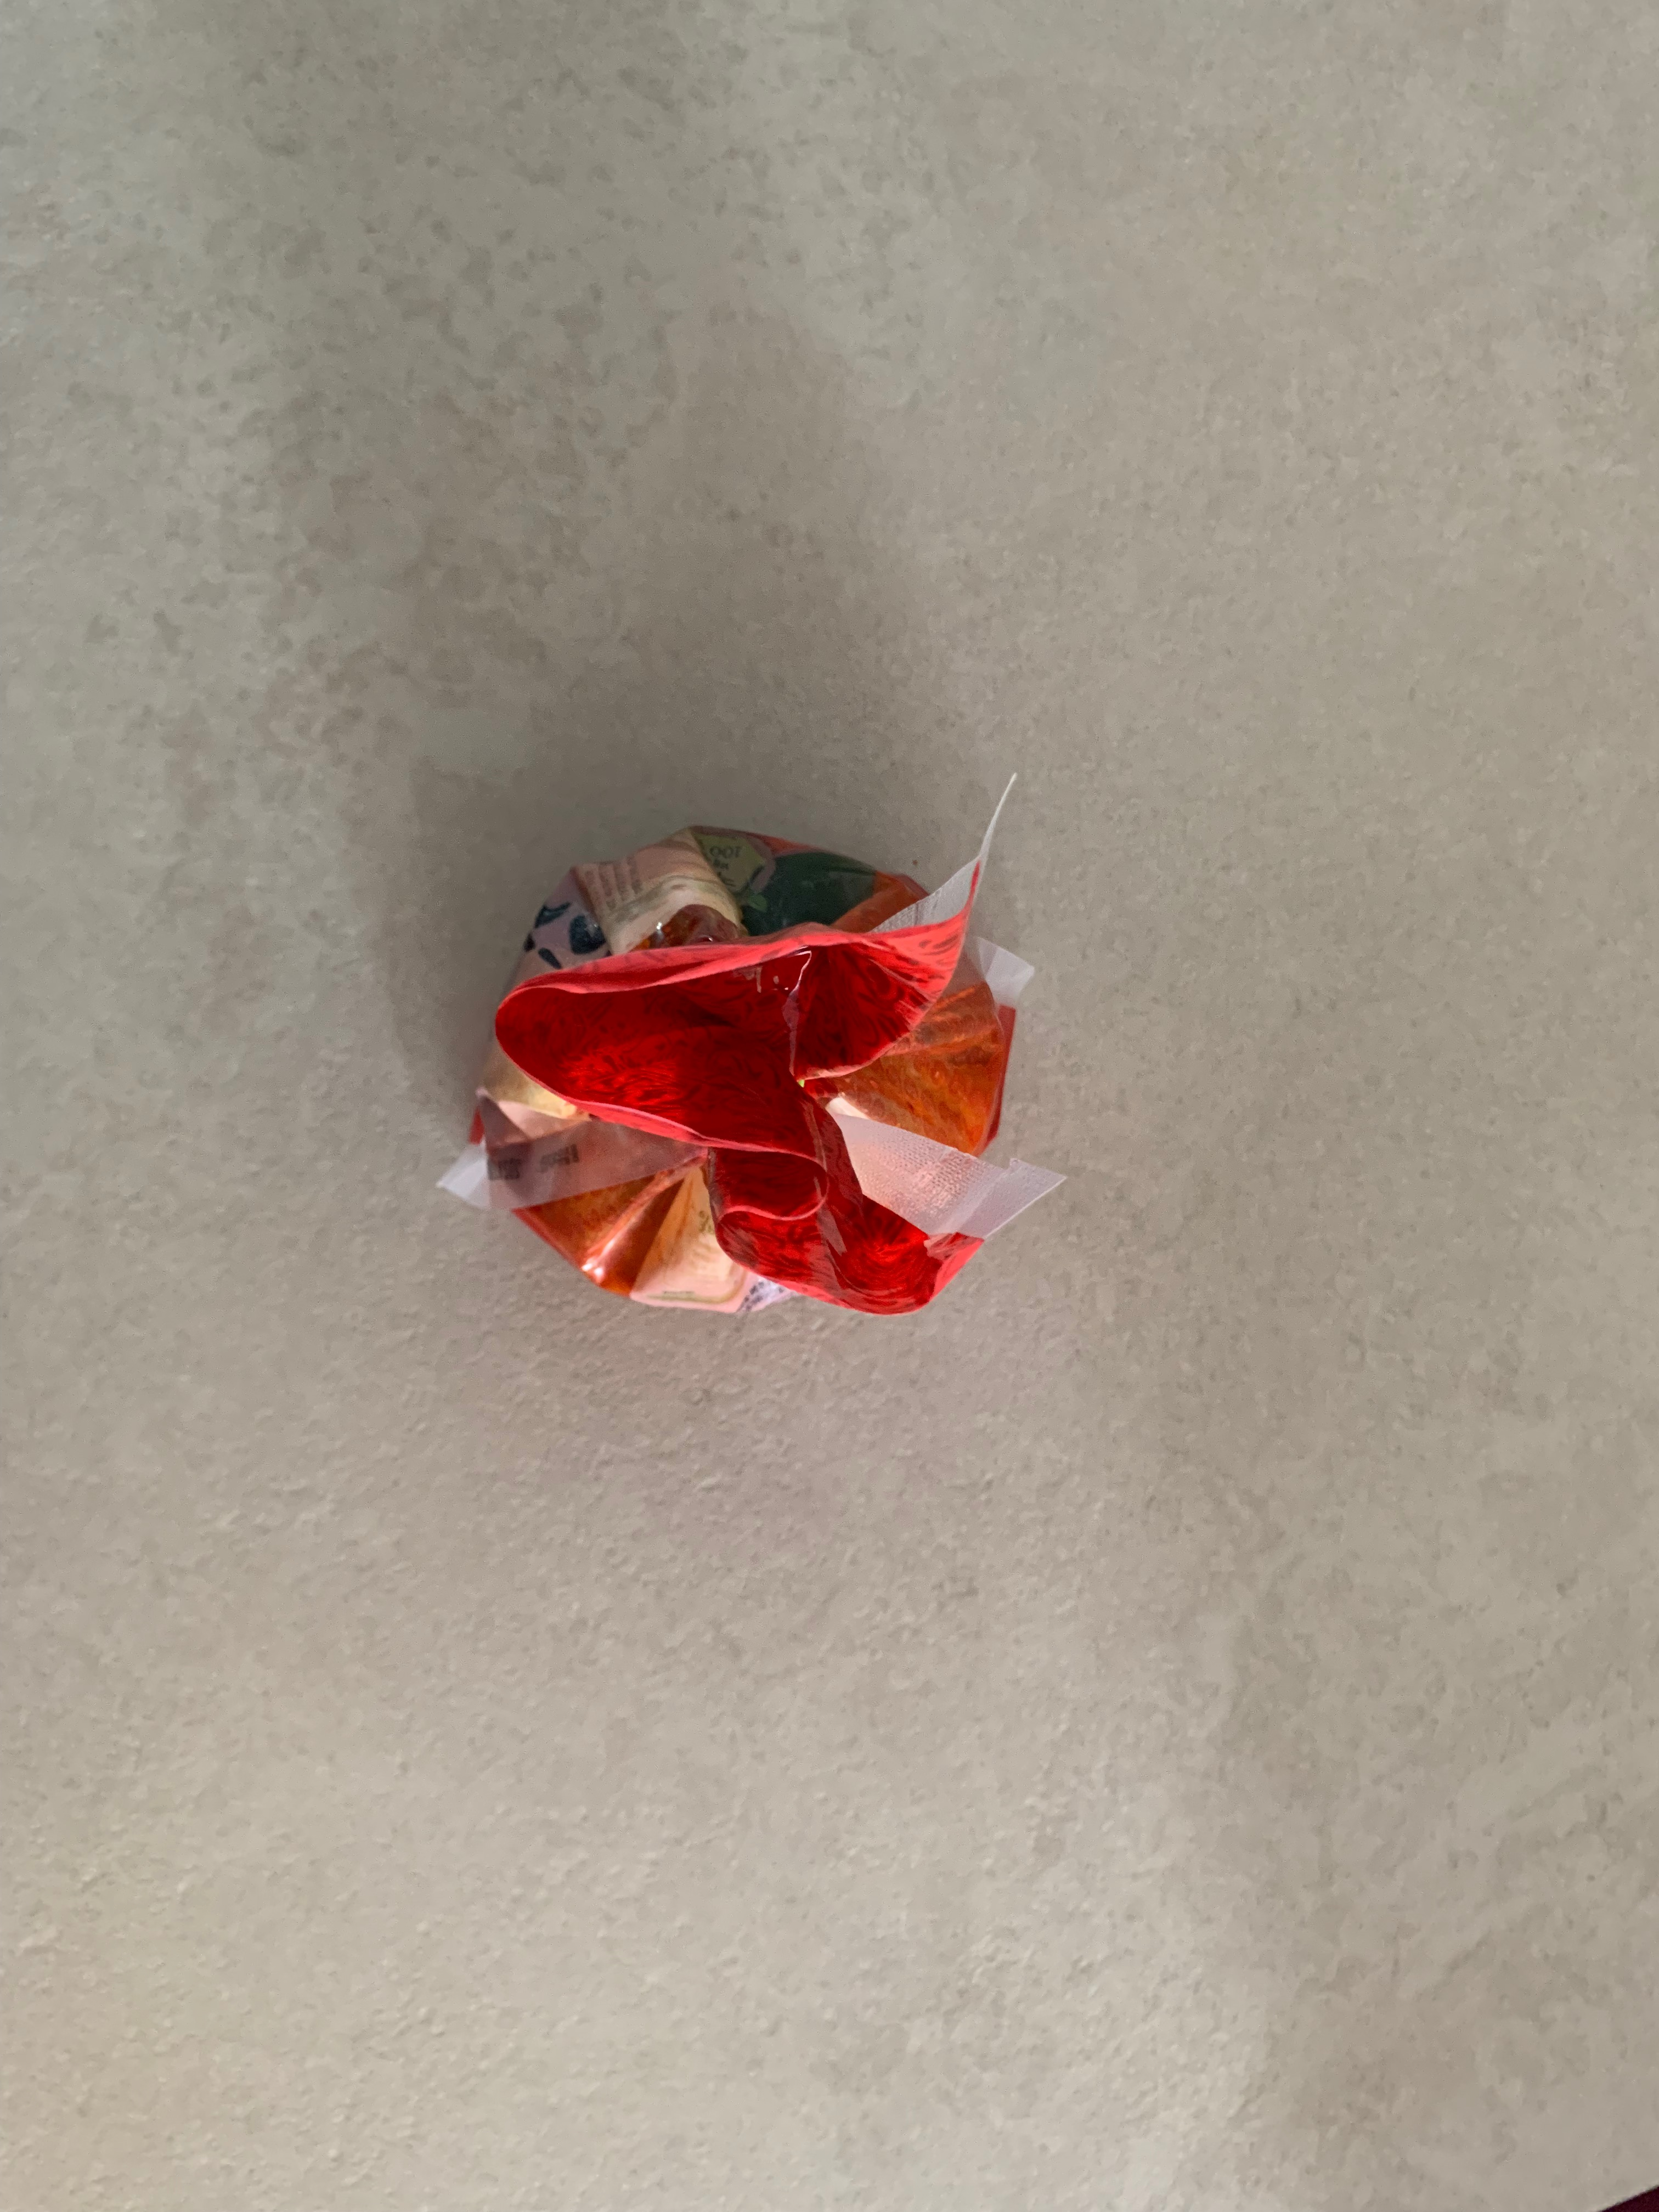kimchi: (471, 826, 1016, 1315)
